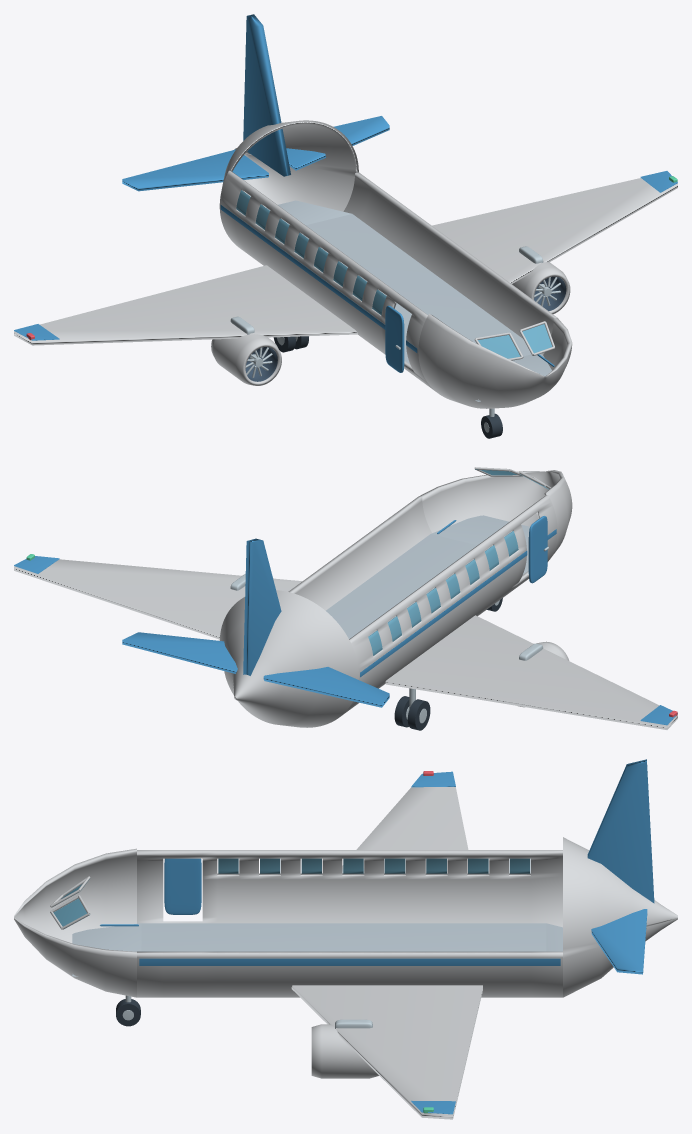
The model's file is pilot_hq.glb.
3 renders of one model, top to bottom at view 1: azimuth 30°, elevation 25°; view 2: azimuth 150°, elevation 25°; view 3: azimuth 270°, elevation 25°, orthographic. The views are drawn at different scales.
Visible parts, largest first — view 1: Cabin_Hollow_Fuselage, Port_Main_Wing, Starboard_Main_Wing, Nose_Hollow_Shell, Cabin_Floor, Tail_Hollow_Cone, Blue_Vertical_Tail, Port_Horizontal_Stabilizer, Port_Engine_Nacelle, Starboard_Horizontal_Stabilizer, Entrance_Door, Starboard_Engine_Nacelle (+2 smaller); view 2: Cabin_Hollow_Fuselage, Port_Main_Wing, Tail_Hollow_Cone, Starboard_Main_Wing, Nose_Hollow_Shell, Cabin_Floor, Blue_Vertical_Tail, Port_Horizontal_Stabilizer, Starboard_Horizontal_Stabilizer, Flight_Deck_Floor, Entrance_Door, Port_Blue_Stripe (+3 smaller); view 3: Cabin_Hollow_Fuselage, Starboard_Main_Wing, Cabin_Floor, Nose_Hollow_Shell, Tail_Hollow_Cone, Blue_Vertical_Tail, Port_Main_Wing, Starboard_Blue_Stripe, Starboard_Horizontal_Stabilizer, Starboard_Engine_Nacelle, Entrance_Door, Flight_Deck_Floor (+1 smaller).
Boxes of the visible parts, left/top/right/bottom form: Cabin_Hollow_Fuselage: left=219, top=170, right=556, bottom=391; Port_Main_Wing: left=14, top=265, right=357, bottom=345; Starboard_Main_Wing: left=432, top=178, right=677, bottom=283; Nose_Hollow_Shell: left=418, top=314, right=572, bottom=408; Cabin_Floor: left=302, top=214, right=531, bottom=364; Tail_Hollow_Cone: left=221, top=120, right=358, bottom=211; Blue_Vertical_Tail: left=243, top=14, right=290, bottom=176; Port_Horizontal_Stabilizer: left=122, top=149, right=268, bottom=191; Port_Engine_Nacelle: left=211, top=334, right=281, bottom=385; Starboard_Horizontal_Stabilizer: left=286, top=116, right=389, bottom=170; Entrance_Door: left=385, top=305, right=404, bottom=372; Starboard_Engine_Nacelle: left=512, top=262, right=570, bottom=314; Cabin_Hollow_Fuselage: left=288, top=495, right=557, bottom=715; Port_Main_Wing: left=385, top=615, right=677, bottom=729; Tail_Hollow_Cone: left=219, top=590, right=358, bottom=727; Starboard_Main_Wing: left=14, top=559, right=302, bottom=639; Nose_Hollow_Shell: left=419, top=470, right=572, bottom=559; Cabin_Floor: left=326, top=534, right=528, bottom=638; Blue_Vertical_Tail: left=243, top=538, right=281, bottom=675; Port_Horizontal_Stabilizer: left=263, top=667, right=389, bottom=707; Starboard_Horizontal_Stabilizer: left=122, top=632, right=237, bottom=673; Flight_Deck_Floor: left=431, top=515, right=529, bottom=557; Entrance_Door: left=528, top=516, right=547, bottom=583; Port_Blue_Stripe: left=360, top=529, right=556, bottom=677; Cabin_Hollow_Fuselage: left=137, top=850, right=562, bottom=997; Starboard_Main_Wing: left=291, top=985, right=482, bottom=1119; Cabin_Floor: left=141, top=923, right=546, bottom=951; Nose_Hollow_Shell: left=14, top=848, right=136, bottom=997; Tail_Hollow_Cone: left=563, top=837, right=677, bottom=997; Blue_Vertical_Tail: left=587, top=759, right=654, bottom=903; Port_Main_Wing: left=342, top=787, right=468, bottom=873; Starboard_Blue_Stripe: left=139, top=958, right=560, bottom=965; Starboard_Horizontal_Stabilizer: left=591, top=909, right=647, bottom=974; Starboard_Engine_Nacelle: left=311, top=1024, right=378, bottom=1078; Entrance_Door: left=164, top=858, right=201, bottom=914; Flight_Deck_Floor: left=72, top=923, right=141, bottom=976.
Size of the model in its own units: 16.9 by 6.05 by 13.87.
